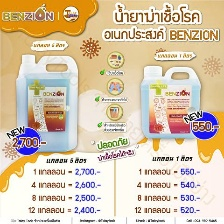cleaning_solution: (10, 51, 78, 156), (136, 63, 203, 142)
